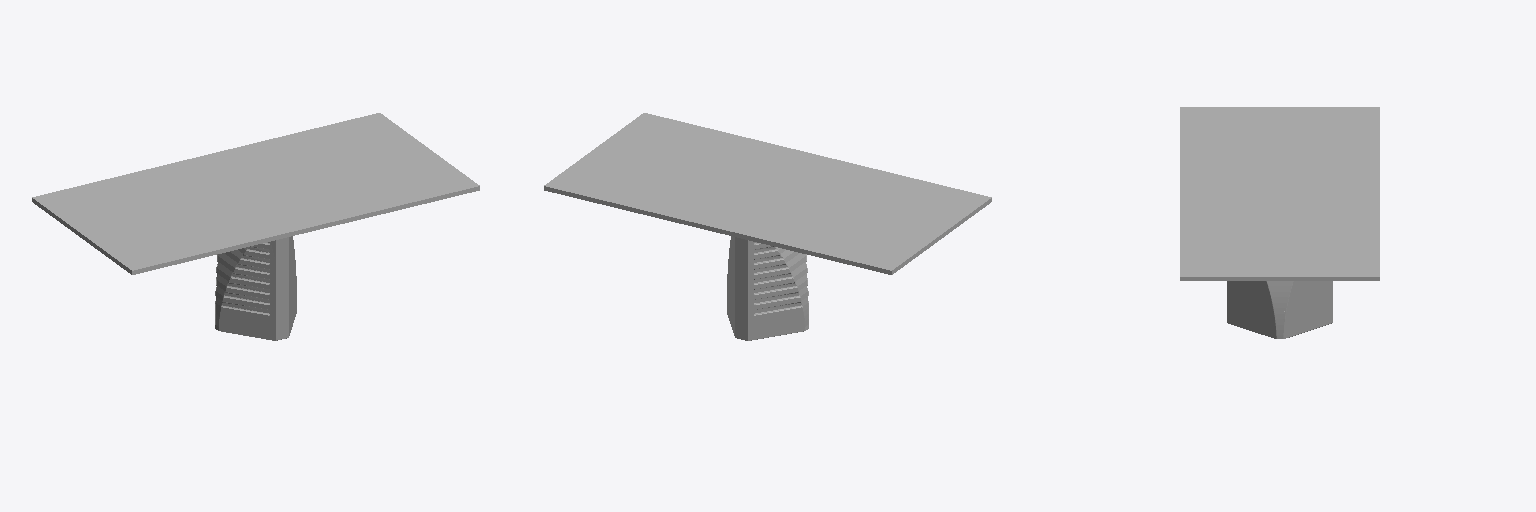
The picture shows the model from 3 angles: view 1: azimuth 30°, elevation 25°; view 2: azimuth 150°, elevation 25°; view 3: azimuth 270°, elevation 25°; orthographic projection.
Visible parts, largest first — view 1: 6.5.2007.0829; view 2: 6.5.2007.0829; view 3: 6.5.2007.0829.
Boxes of the visible parts, box(x1,y1,x2,y2) form: 6.5.2007.0829: box(32, 113, 479, 340); 6.5.2007.0829: box(544, 113, 991, 340); 6.5.2007.0829: box(1180, 107, 1379, 338).
Bounding box in the file's own units: 20 × 7.06 × 9.98.